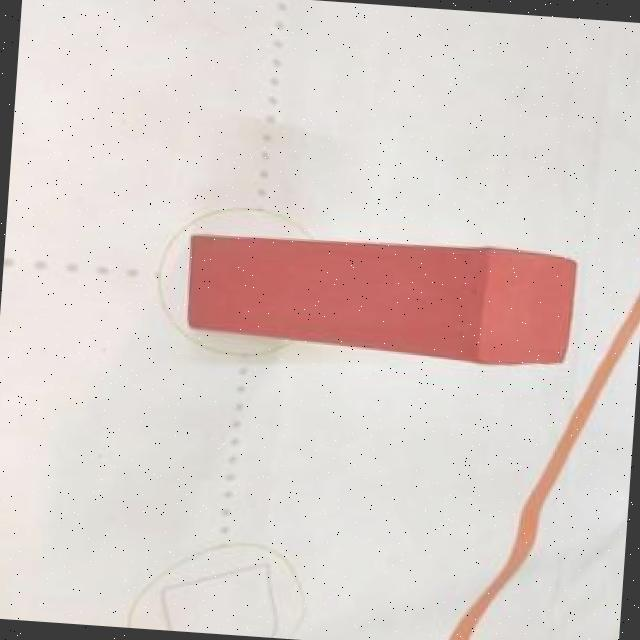redbox: (185, 228, 577, 358)
